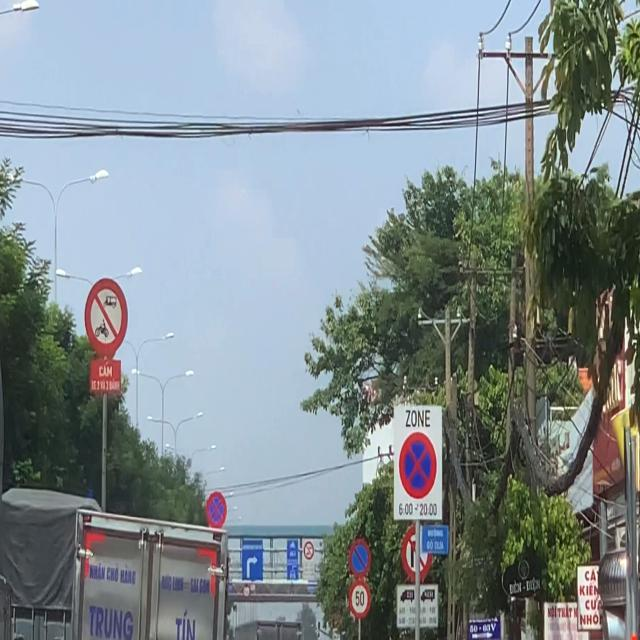Cam con lai: (83, 276, 128, 360)
Cam do: (348, 540, 372, 580)
Cam dung va do: (398, 430, 438, 500), (205, 490, 227, 531)
Toc do toi da: (348, 581, 371, 619)
